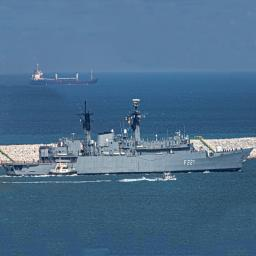Fragata: (4, 88, 256, 179)
